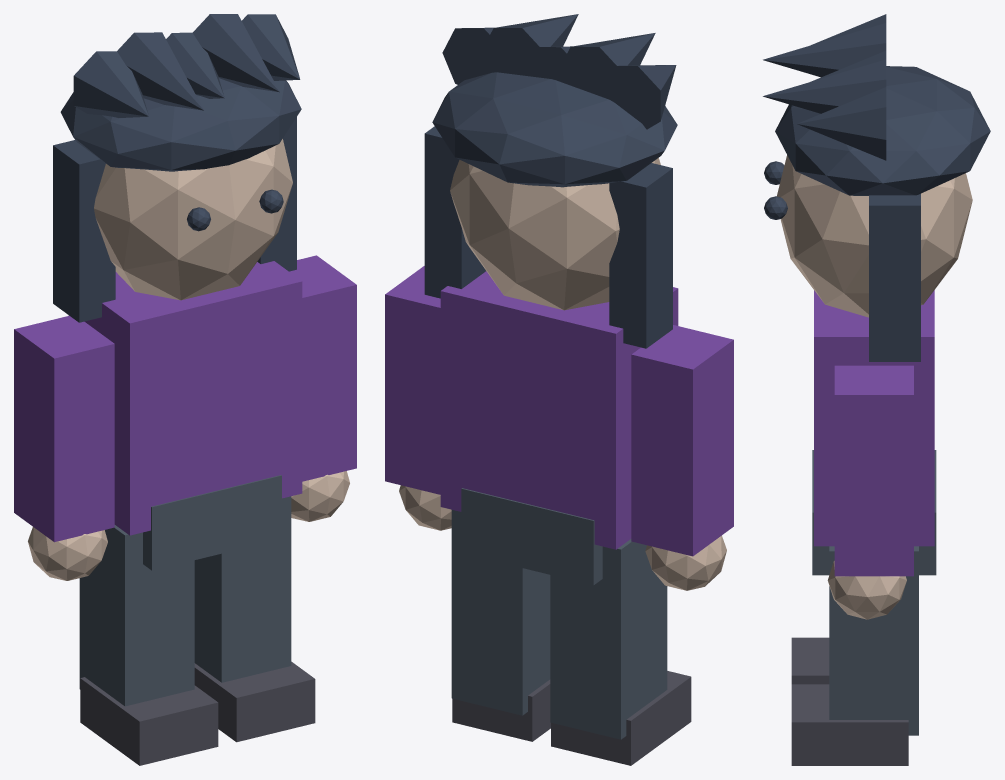
The model's file is robin.glb.
3 views of the same model, side by side, from view 1: azimuth 30°, elevation 25°; view 2: azimuth 150°, elevation 25°; view 3: azimuth 270°, elevation 25° (orthographic). The views are drawn at different scales.
Parts seen in each view (by area): view 1: part_000, part_010, part_002, part_004, part_013, part_008, part_006, part_019, part_001, part_005, part_009, part_014 (+7 smaller); view 2: part_000, part_002, part_013, part_004, part_010, part_008, part_006, part_019, part_001, part_020, part_005, part_015 (+7 smaller); view 3: part_006, part_013, part_010, part_000, part_008, part_020, part_009, part_018, part_015, part_017, part_007, part_005 (+2 smaller).
Part boxes in pixels (x1,y1,x2,y2): part_000: (68, 261, 302, 535); part_010: (94, 139, 292, 300); part_002: (14, 315, 114, 542); part_004: (79, 525, 194, 706); part_013: (60, 78, 301, 171); part_008: (194, 496, 291, 682); part_006: (289, 255, 356, 481); part_019: (53, 140, 115, 322); part_001: (143, 475, 281, 570); part_005: (80, 677, 218, 765); part_009: (194, 661, 315, 742); part_014: (73, 51, 148, 117); part_000: (440, 271, 678, 549); part_002: (631, 325, 733, 556); part_013: (432, 72, 677, 187); part_004: (550, 539, 667, 739); part_010: (450, 158, 660, 310); part_008: (451, 510, 550, 715); part_006: (385, 266, 440, 494); part_019: (609, 163, 672, 348); part_001: (461, 488, 602, 585); part_020: (424, 126, 485, 298); part_005: (551, 671, 691, 765); part_015: (558, 33, 655, 103); part_006: (834, 365, 913, 576); part_013: (775, 66, 990, 195); part_010: (777, 155, 972, 317); part_000: (814, 290, 934, 546); part_008: (829, 546, 918, 735); part_020: (869, 193, 920, 361); part_009: (791, 684, 908, 765); part_018: (797, 87, 886, 160); part_015: (763, 23, 886, 77); part_017: (763, 59, 886, 113); part_007: (827, 561, 906, 619); part_005: (791, 637, 829, 684).
Size of the model in its own units: 1.03 by 2.17 by 0.6628.
